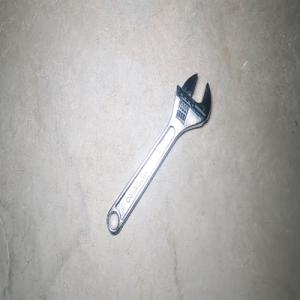Wrench: (106, 73, 211, 234)
